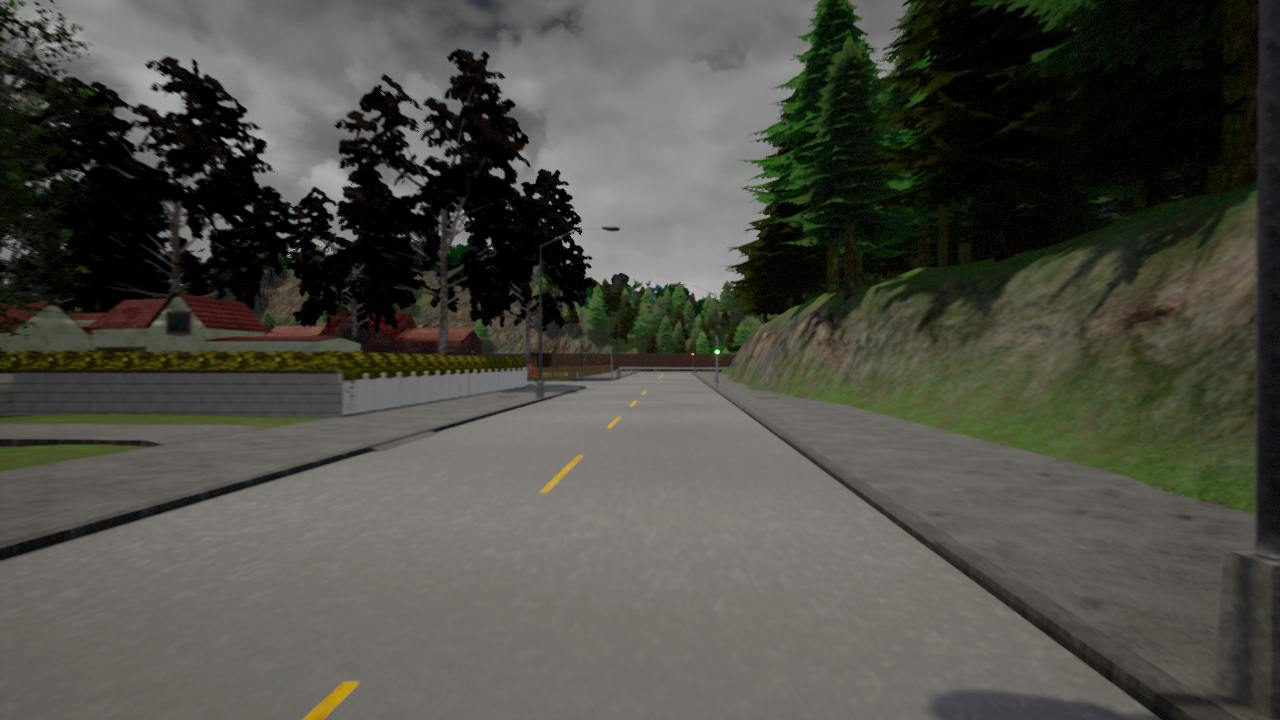green: (713, 340, 721, 356)
